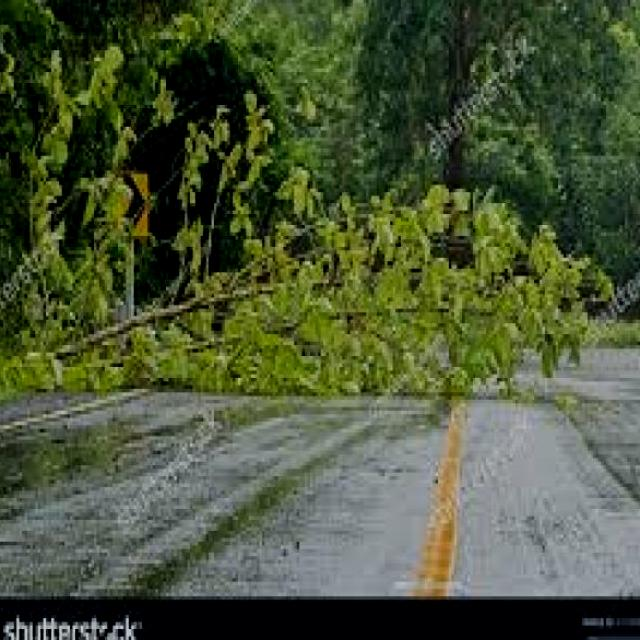fallen_object: (0, 152, 632, 439)
